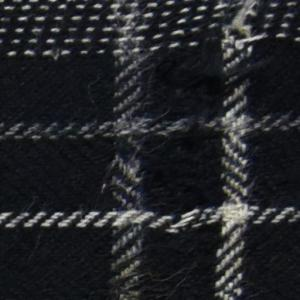Damage: (186, 1, 284, 94)
